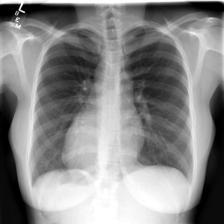normal: (23, 22, 198, 194)
